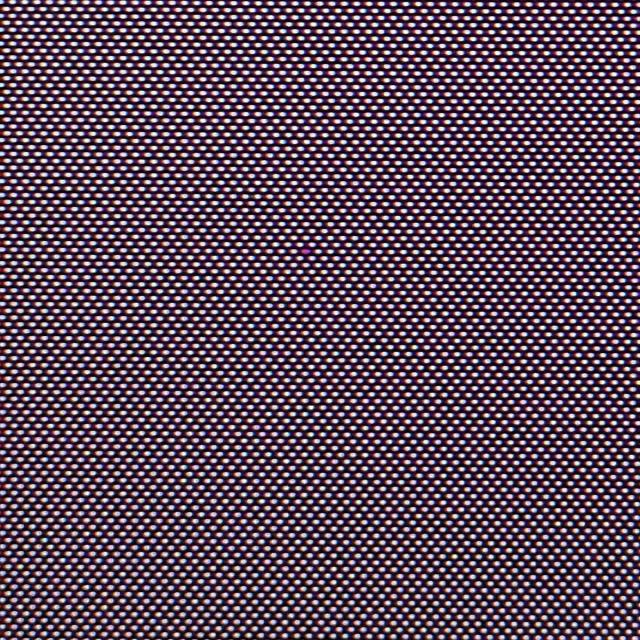Dead pixel: (298, 248, 312, 255)
